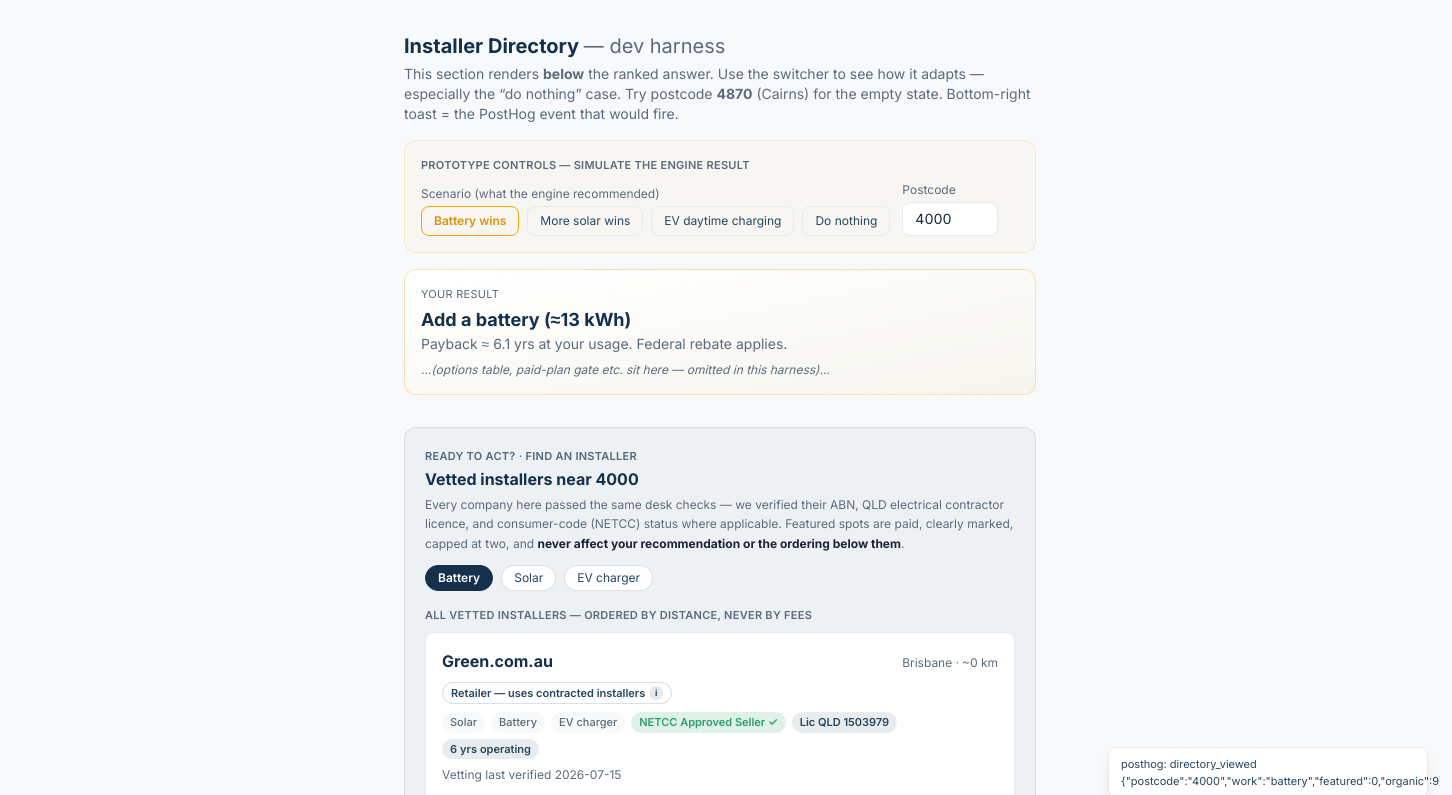
directory — behaviour via the dev harness › a non-QLD postcode (2000) shows the waitlist empty state
This screenshot has width=1452, height=795.
Replace the text in the field with test id "dev-postcode" with "2000" at (950, 218), box [902,202,998,236]
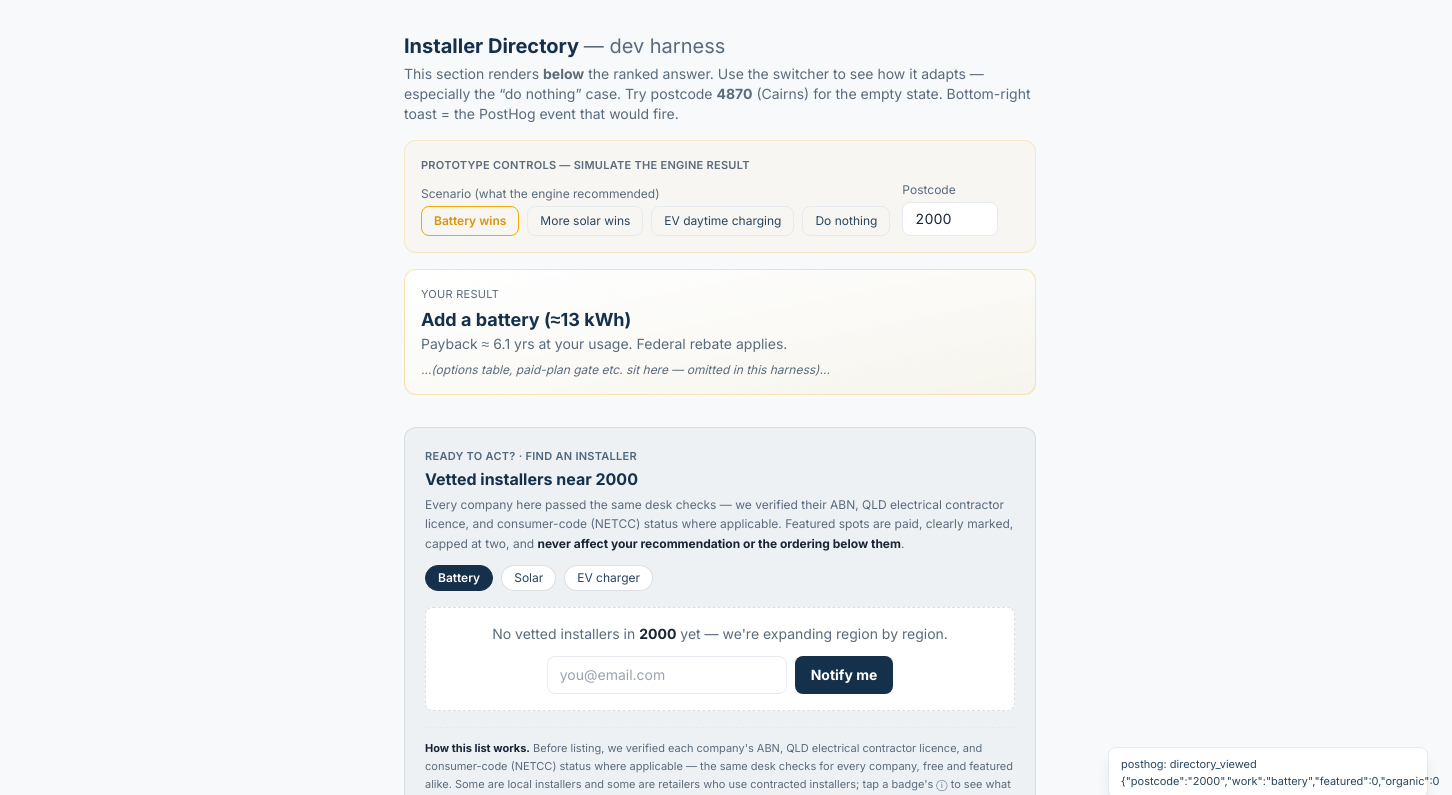
Check: the element with test id "empty-state" is shown, box [425,607,1015,711]
